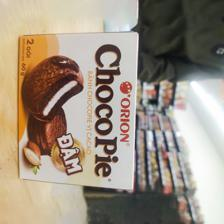Chocopie_cacao: (16, 32, 138, 193)
